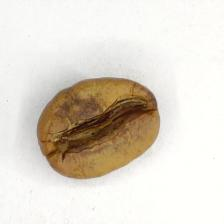NG: (52, 94, 149, 161)
